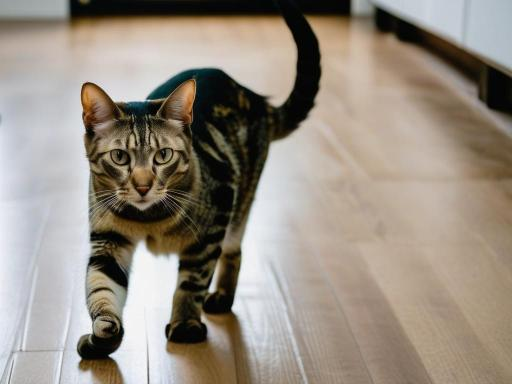cat_standing: (78, 0, 320, 358)
